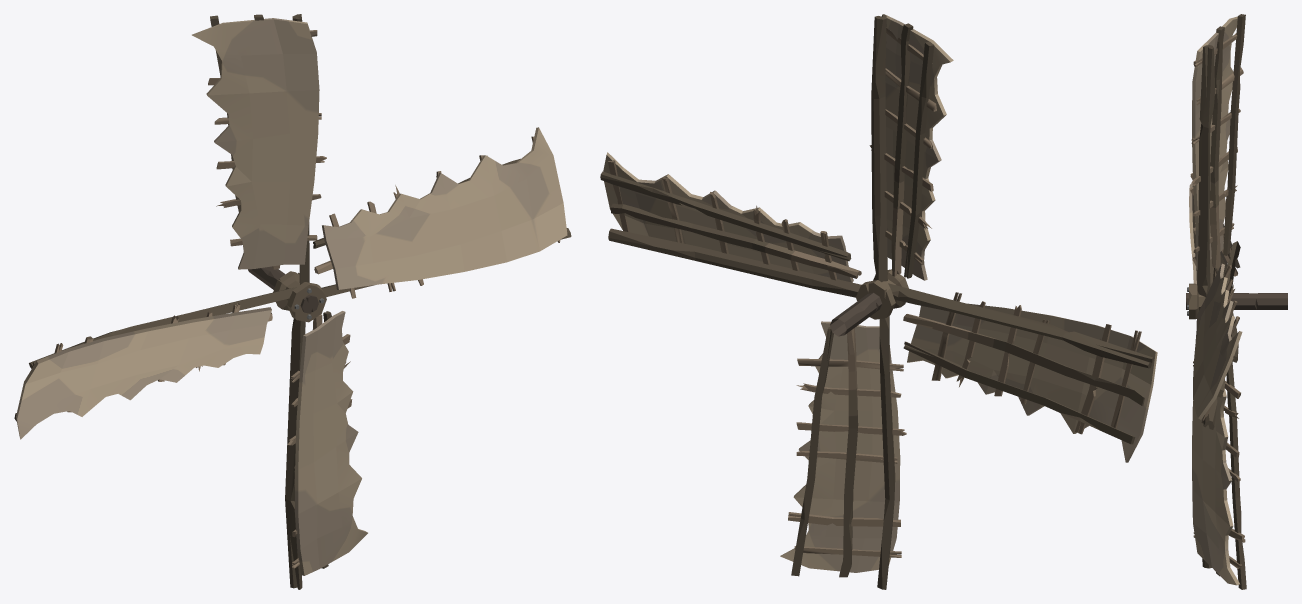
File: SM_Bld_Windmill_01_Blades_01.glb
The picture shows the model from 3 angles, left to right: view 1: azimuth 30°, elevation 25°; view 2: azimuth 150°, elevation 25°; view 3: azimuth 270°, elevation 25°; orthographic projection. The views are drawn at different scales.
Visible parts, largest first — view 1: SM_Bld_Windmill_01_Blades_01; view 2: SM_Bld_Windmill_01_Blades_01; view 3: SM_Bld_Windmill_01_Blades_01.
Boxes of the visible parts, left/top/right/bottom form: SM_Bld_Windmill_01_Blades_01: left=14, top=14, right=571, bottom=589; SM_Bld_Windmill_01_Blades_01: left=600, top=14, right=1157, bottom=589; SM_Bld_Windmill_01_Blades_01: left=1186, top=14, right=1287, bottom=589.
Bounding box in the file's own units: 9.48 × 9.59 × 1.69.
1 material, 1 textured.
